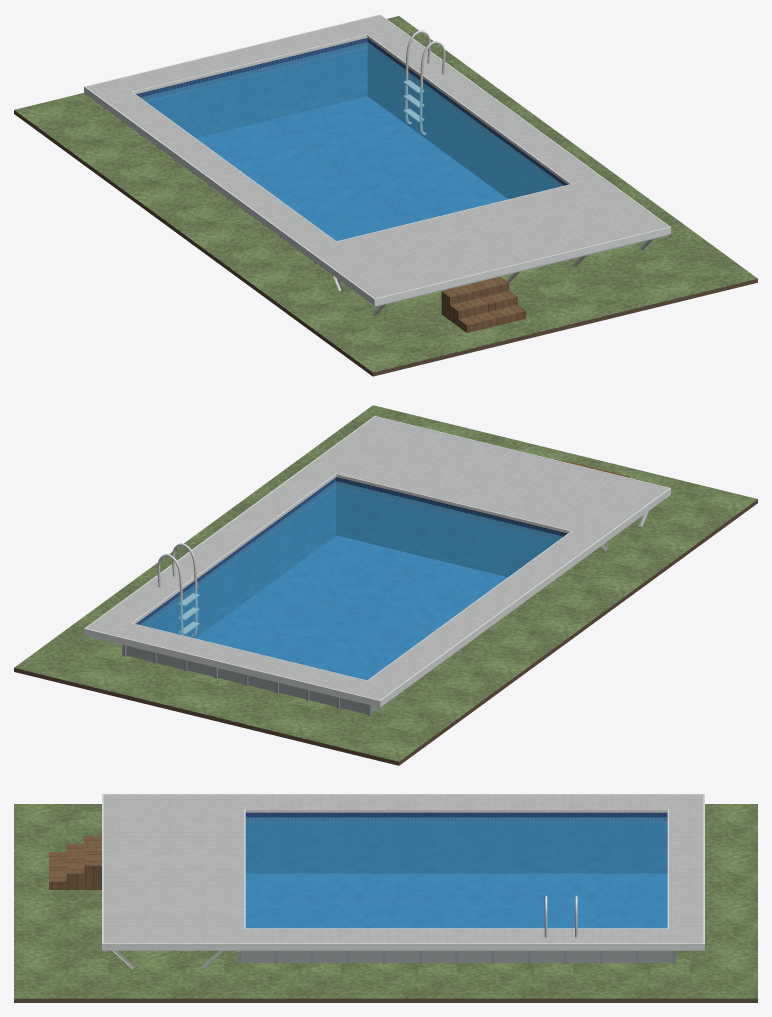
File: kayak-pool-16x24-gray-end-rec-nofence.19ac7d3573.glb
The picture shows the model from 3 angles, top to bottom: view 1: azimuth 30°, elevation 25°; view 2: azimuth 150°, elevation 25°; view 3: azimuth 270°, elevation 25°; orthographic projection. The views are drawn at different scales.
Visible parts, largest first — view 1: ground, water, deck, liner_floor, liner_wall, fascia, soil, steps, steel, stud; view 2: ground, water, deck, liner_floor, liner_wall, fascia, soil, wall, steel; view 3: ground, water, deck, liner_wall, liner_floor, fascia, wall, soil, steps, upright.
Part boxes in pixels (x1,y1,x2,y2): ground: (14,16,757,372); water: (140,42,563,240); deck: (86,15,668,298); liner_floor: (196,96,507,240); liner_wall: (136,38,567,198); fascia: (84,14,670,305); soil: (14,110,757,376); steps: (441,276,526,332); steel: (403,30,445,134); stud: (310,234,668,315); ground: (14,405,757,761); water: (140,481,562,679); deck: (86,417,668,699); liner_floor: (195,535,507,680); liner_wall: (136,477,567,638); fascia: (84,416,670,707); soil: (14,499,757,765); wall: (126,645,378,714); steel: (157,543,199,637); ground: (14,804,757,998); water: (245,817,667,928); deck: (103,795,703,943); liner_wall: (245,812,667,873); liner_floor: (245,873,667,928); fascia: (102,794,704,950); wall: (241,950,672,962); soil: (14,998,757,1002); steps: (49,836,101,889); upright: (237,950,675,963).
Bounding box in the file's own units: 7.92 × 1.9 × 12.79.
Materials: 12 (5 with a texture image).
